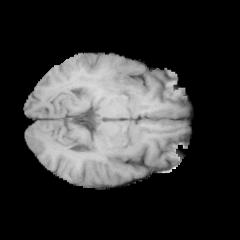glioma: (79, 56, 142, 97)
